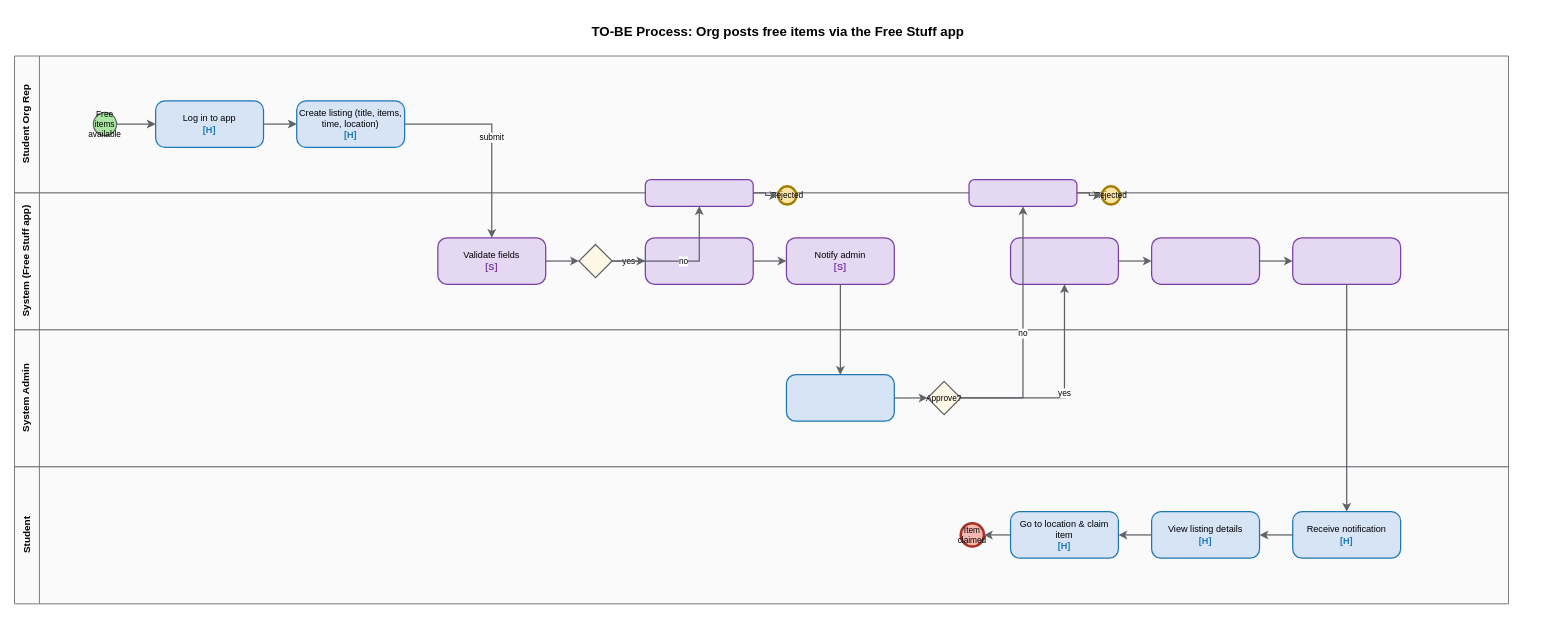
Image size: 1556x618. Some labels were removed from this diagram. The centre of each missing label's shape, as x and y in pixels:
"Mark APPROVED & notify org [S]" goes at pixel 1064 261.
"Mark PENDING_APPROVAL [S]" goes at pixel 698 261.
"Match to students by preferences [S]" goes at pixel 1205 261.
"Notify org of rejection [S]" goes at pixel 1022 193.
"Org verified?" goes at pixel 595 260.
"Reject — not verified [S]" goes at pixel 698 193.
"Review listing [H]" goes at pixel 840 397.
"Send notifications [S]" goes at pixel 1346 261.
